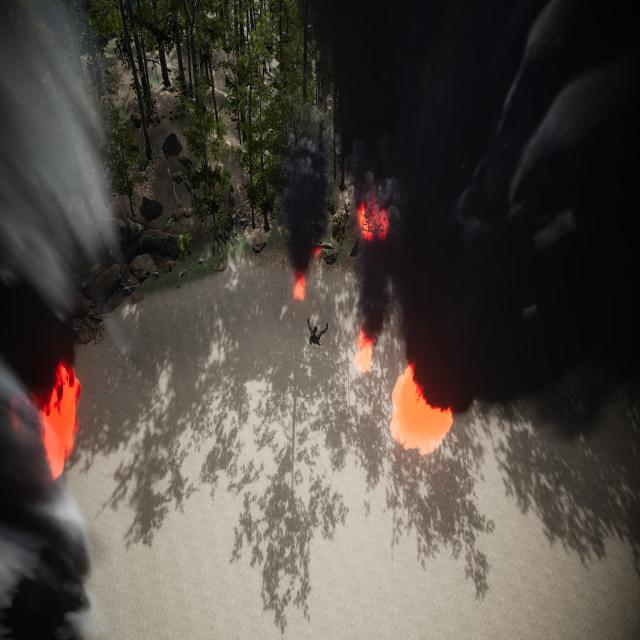Human: (304, 313, 330, 353)
